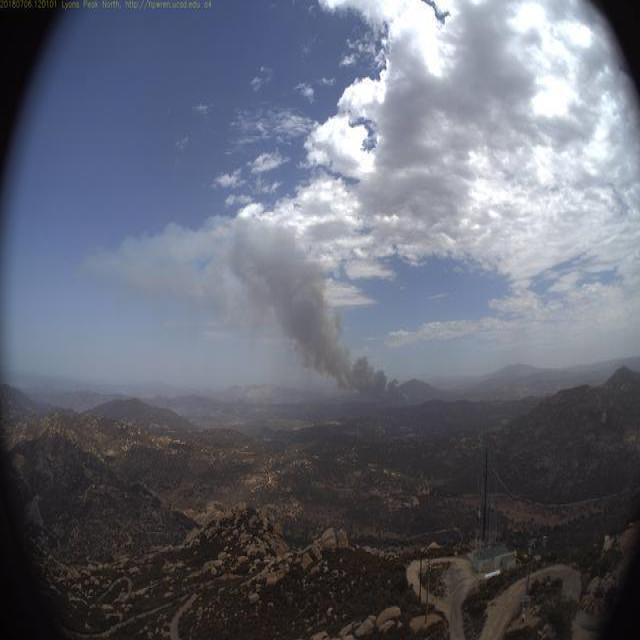smoke: (153, 209, 431, 415)
